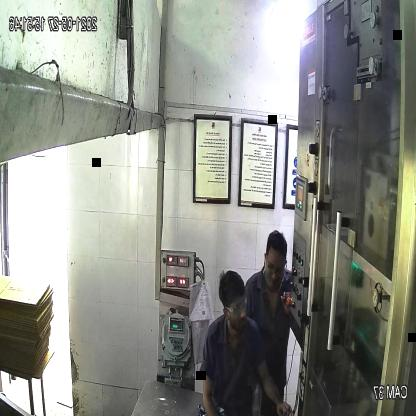goggles: (221, 292, 249, 316)
